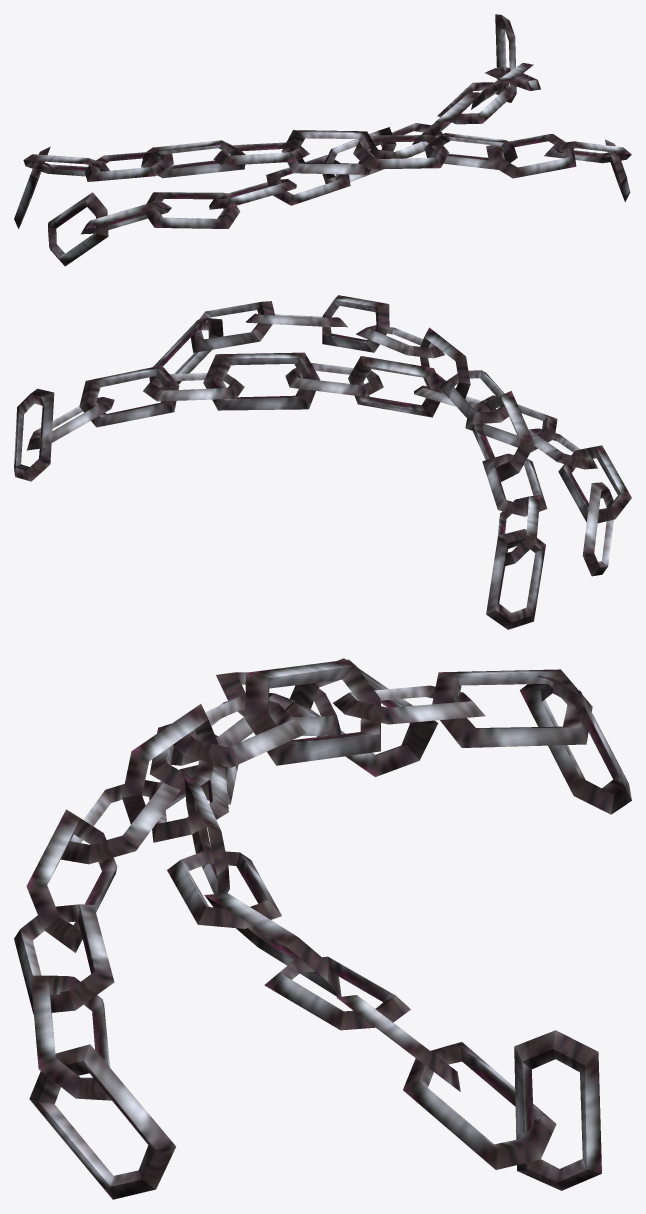
Rendered from Mesh_chain_001.FBX.
3 views of the same model, one above another, from view 1: azimuth 30°, elevation 25°; view 2: azimuth 150°, elevation 25°; view 3: azimuth 270°, elevation 25° (orthographic). The views are drawn at different scales.
Parts seen in each view (by area): view 1: Mesh_chain_001; view 2: Mesh_chain_001; view 3: Mesh_chain_001.
Part boxes in pixels (left/top/right/bottom): Mesh_chain_001: left=14, top=14, right=631, bottom=266; Mesh_chain_001: left=14, top=295, right=631, bottom=629; Mesh_chain_001: left=14, top=658, right=631, bottom=1199.
Size of the model in its own units: 81.93 by 20.95 by 47.71.
